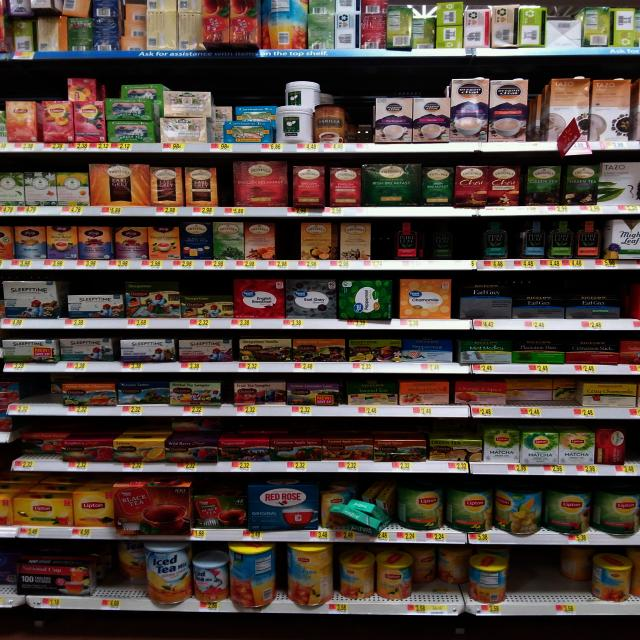empty_space: (515, 547, 557, 597)
